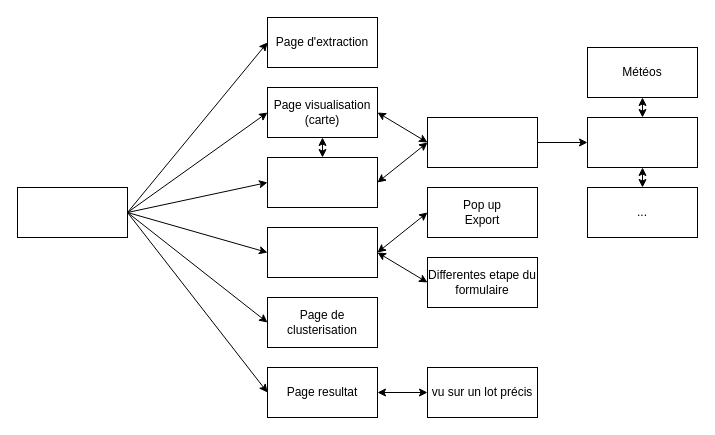
This 715x435 diagram has some shape labels left out. Here are the shapes that lost their labels. From the top down, the centre of each, then its label:
At (x=482, y=142): "Information d'une nappe".
At (x=642, y=142): "Niveau d'eau".
At (x=322, y=182): "Page visualisation (liste)".
At (x=72, y=212): "Menu principale (side bar)".
At (x=322, y=252): "Page de configuration".
